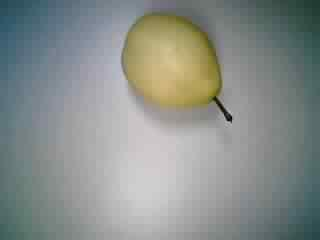pear: (116, 5, 239, 137)
